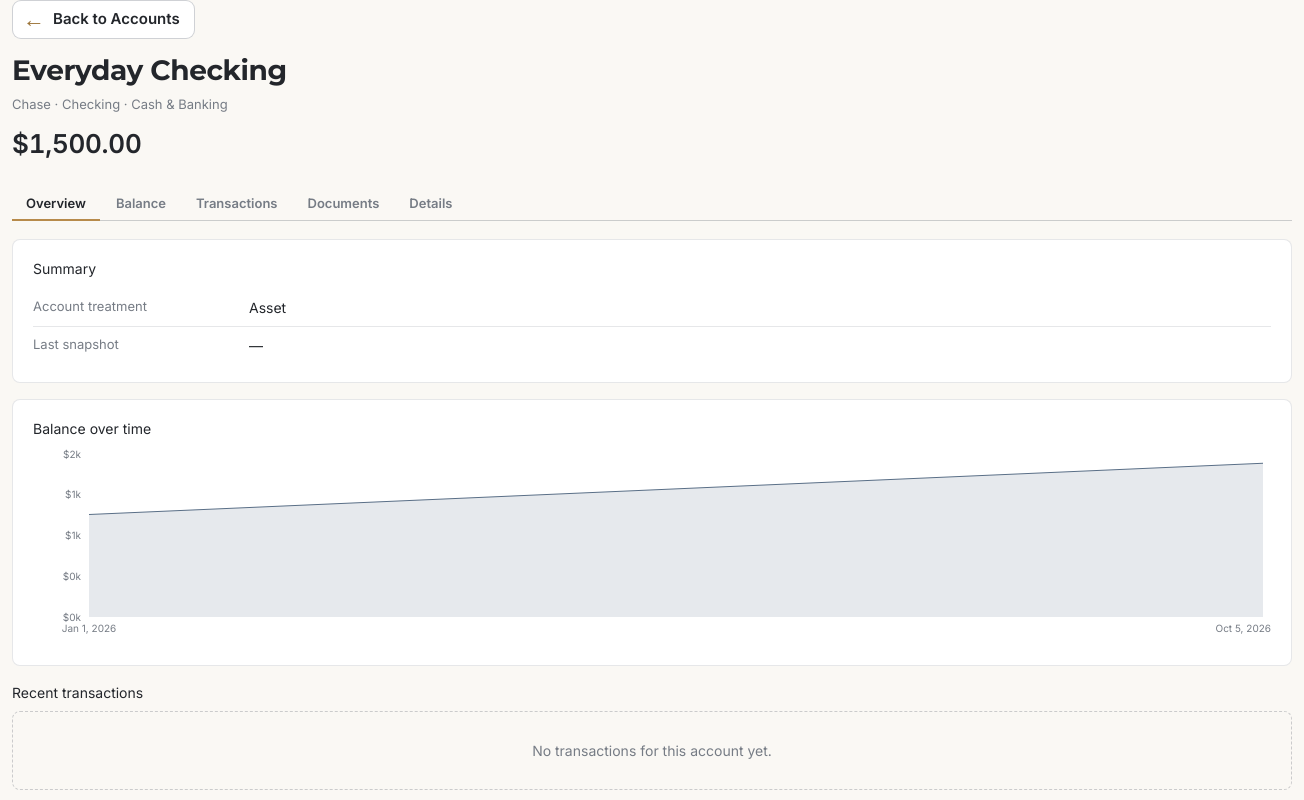
Scenario: AccountDetail tabs › lists pending and posted groups in the transactions tab
Expected: the heading "Everyday Checking" is shown, [12, 48, 287, 90]
Click the button "Transactions" at coordinates (237, 204), box [182, 187, 292, 221]
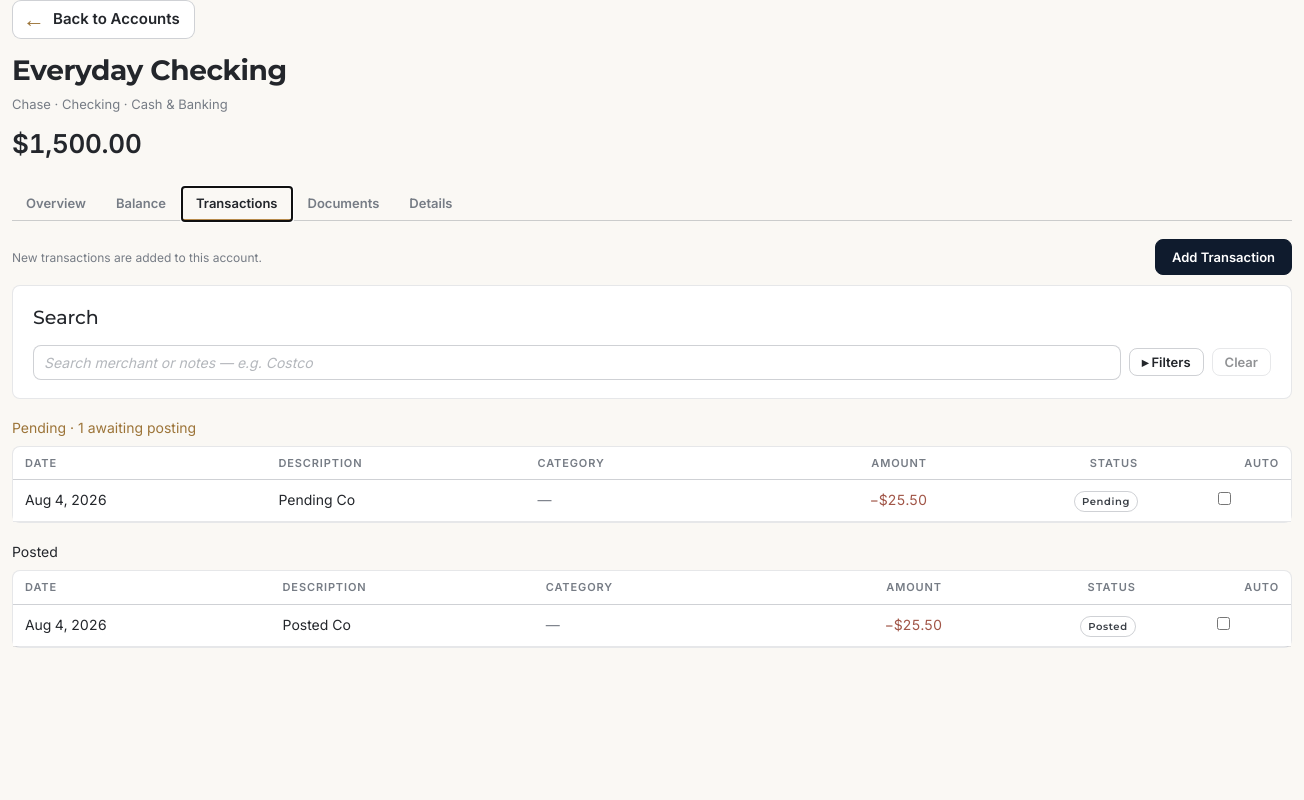
Expected: the text "Pending Co" is shown, [266, 480, 525, 522]
Expected: the text "Posted Co" is shown, [270, 604, 534, 646]
Expected: the text "Pending · 1 awaiting posting" is shown, [12, 418, 196, 436]
